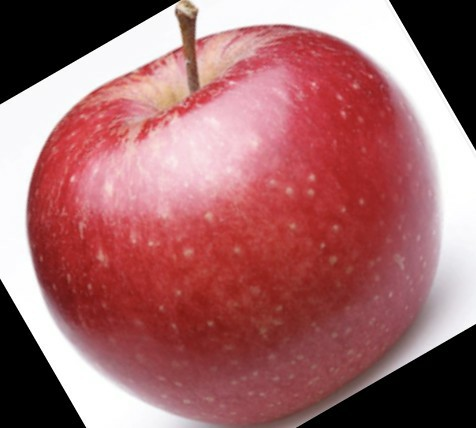fresh_apple: (23, 27, 447, 424)
